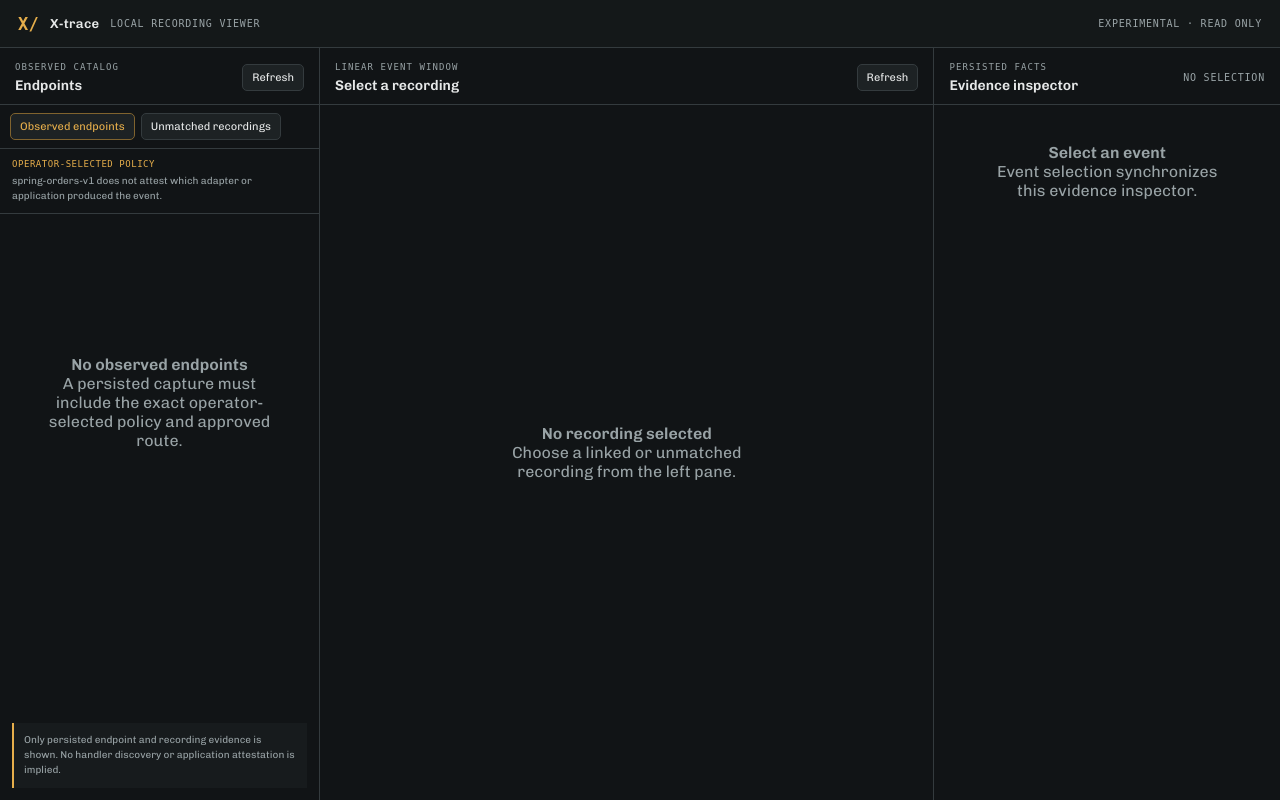
endpoint-first recording viewer › uses safe status for pagination errors without rendering server detail or request ID
The image size is (1280, 800).
Expected: the text "Operator-selected policy" is shown, [12,159,155,169]
Click the button "Unmatched recordings": click(211, 126) [141,113,281,140]
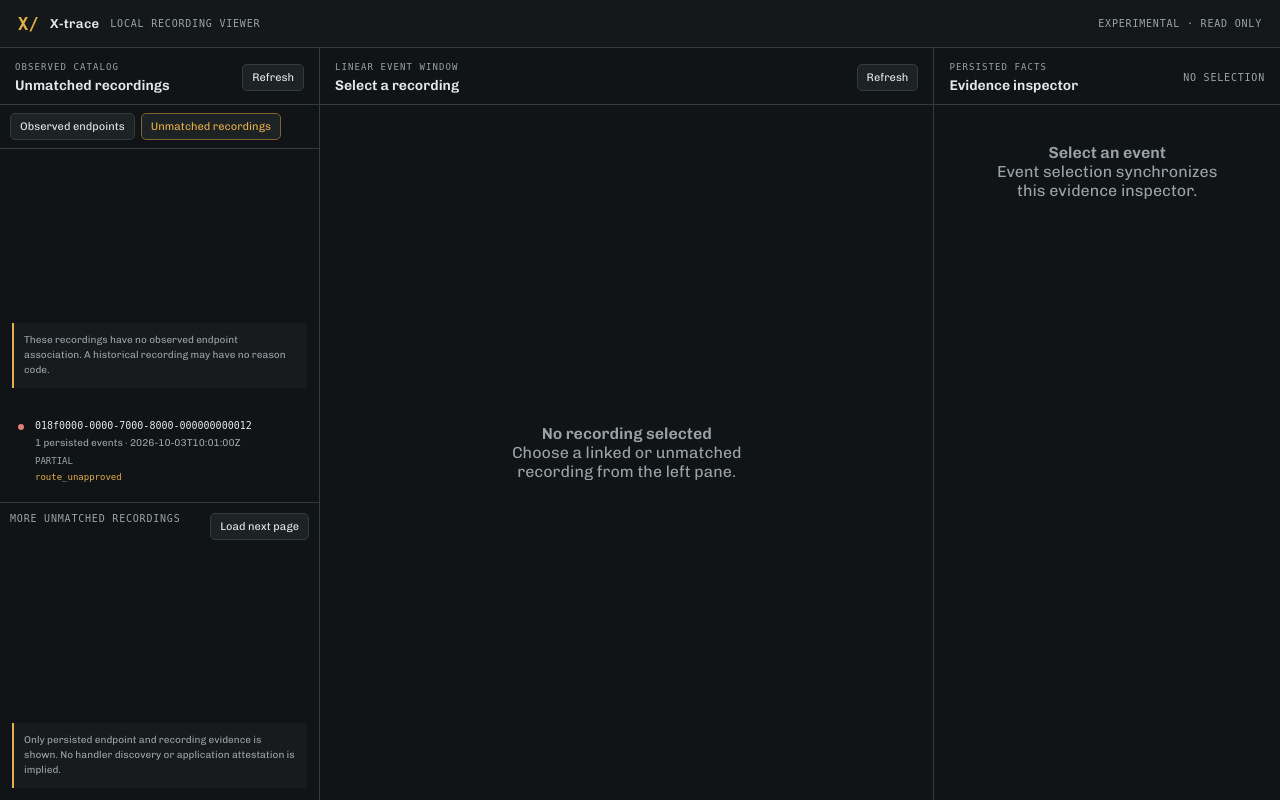
Now the button "018f0000-0000-7000-8000-000000000012" is shown, box [8,408,311,494]
Click the button "Load next page": click(260, 526) [210,512,309,540]
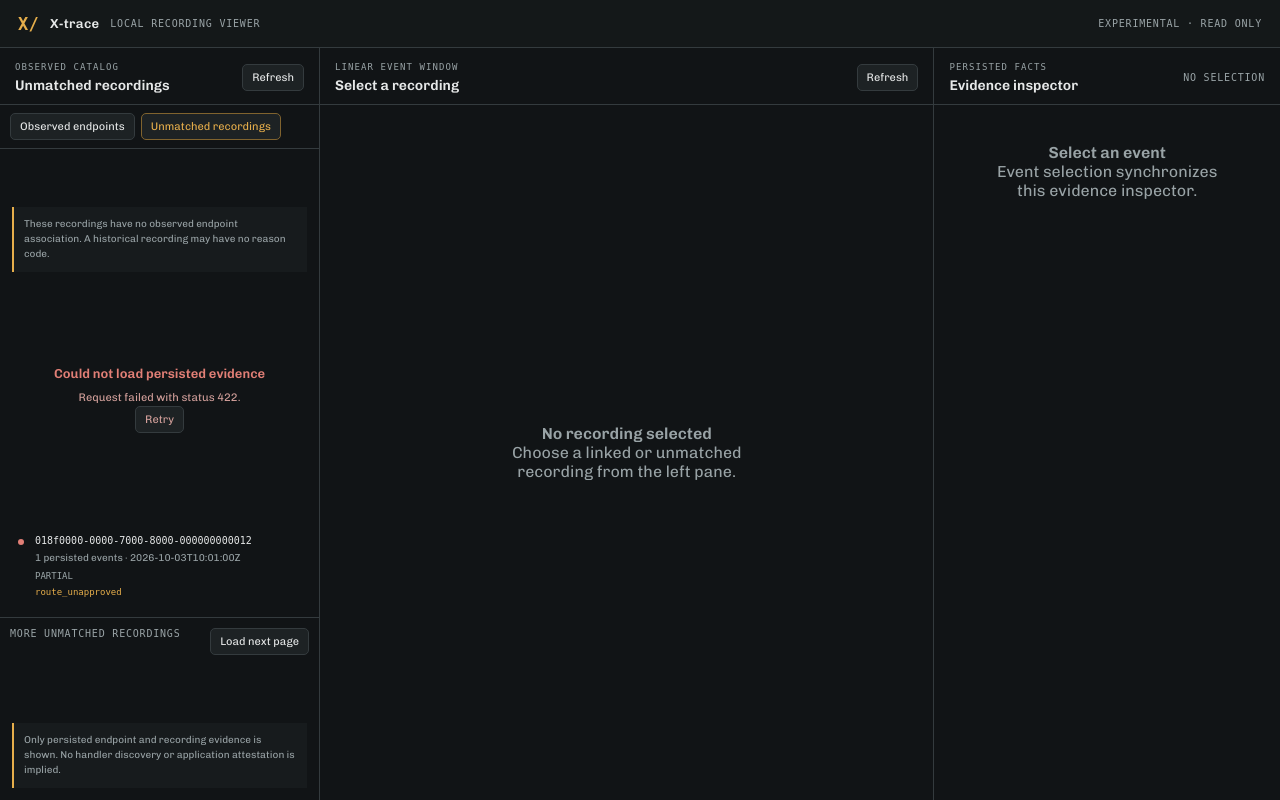
Now the message shows "Request failed with status 422.", box [78,391,240,404]
